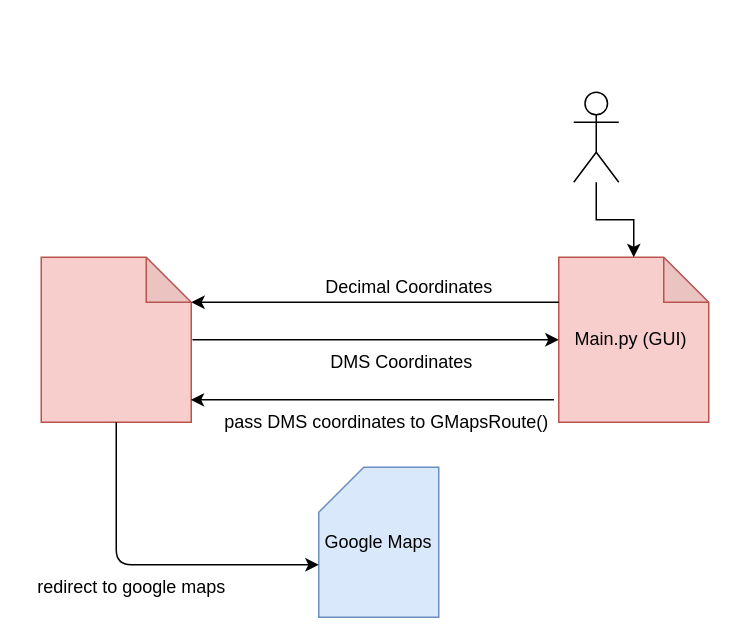
Some shapes in this 735 by 644 pixel diagram are drawn without their labels. The shapes that lost their labels are listed below. From the top down, each one's box as (x1, y1, x2, y2) in pixels, then its label:
(572, 91, 619, 182): User
(40, 256, 191, 422): DMSConverter.Py
